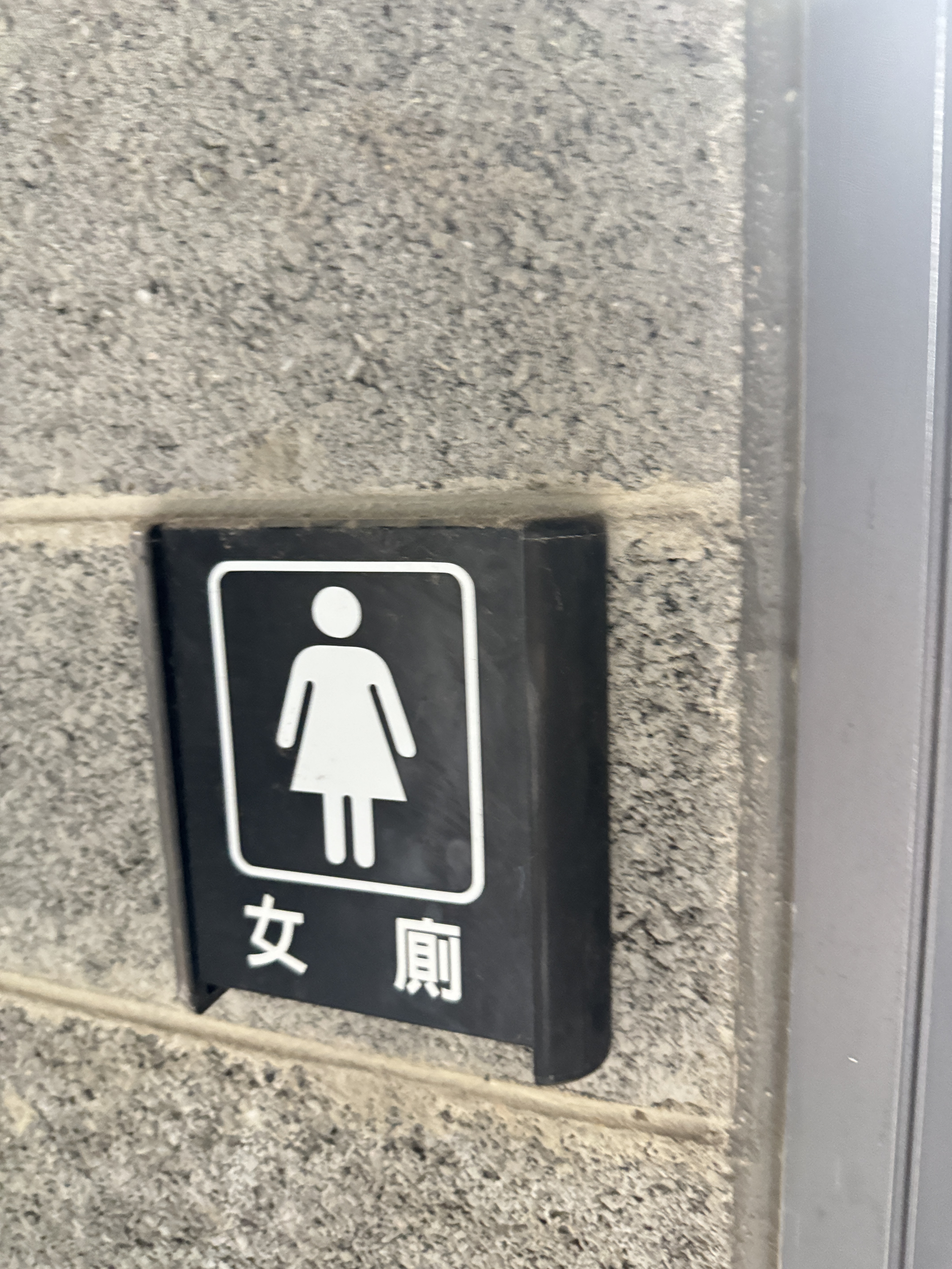toilet_sign: (104, 506, 642, 1070)
